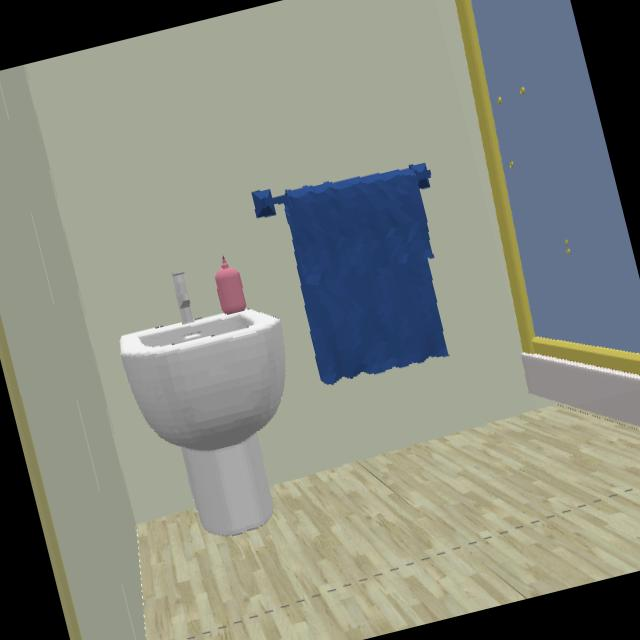shower: (454, 0, 640, 377)
washbasin: (119, 275, 286, 452)
